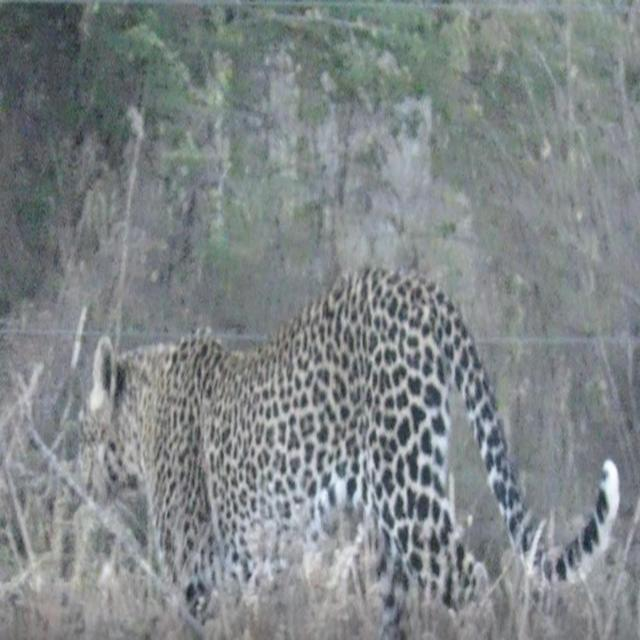Leopard: (72, 272, 635, 640)
